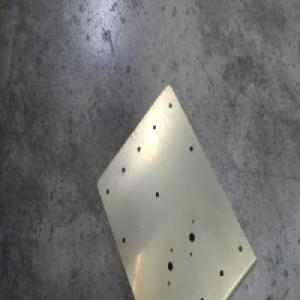MetalSheet: (93, 81, 258, 300)
